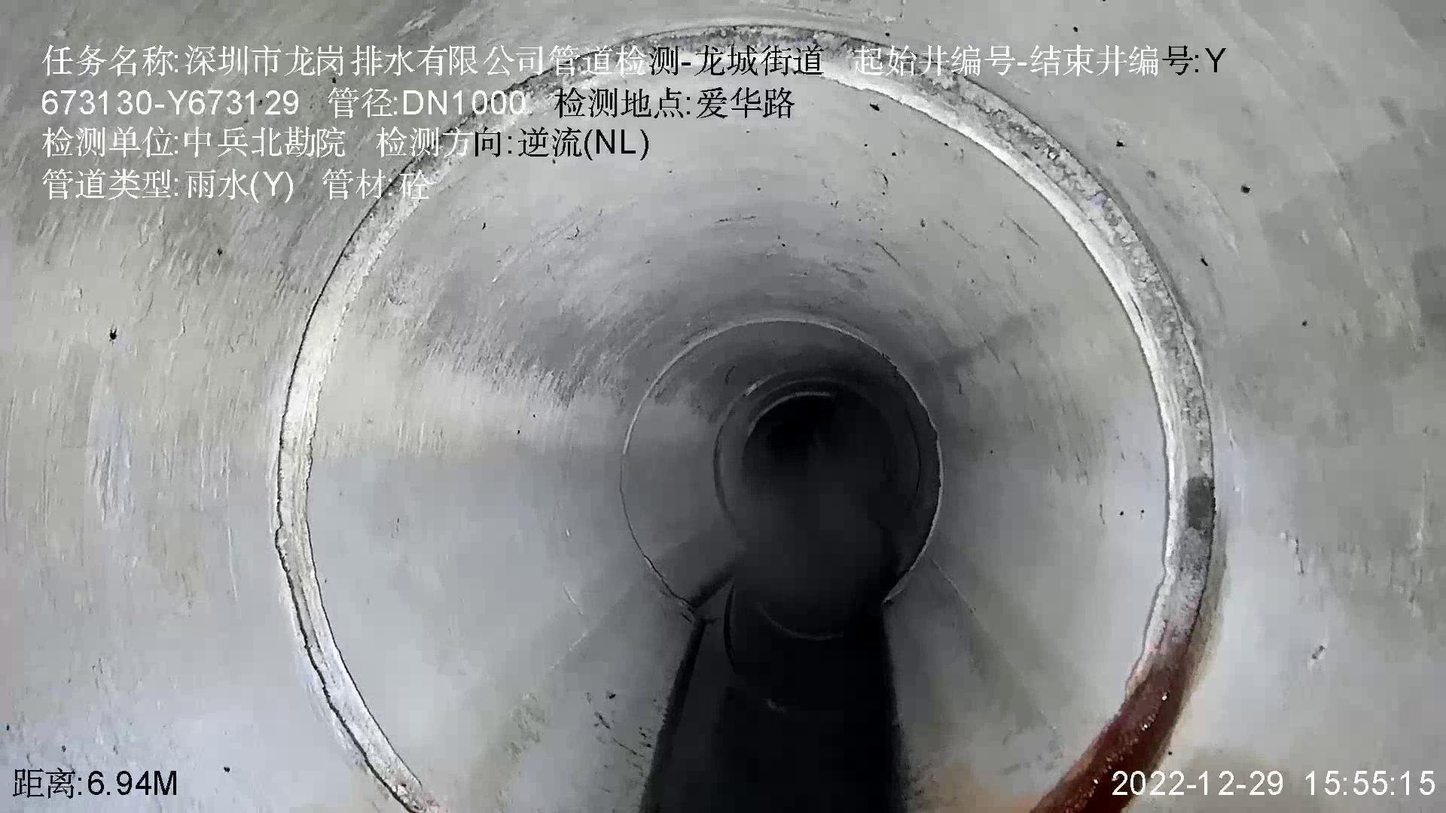CKTJ: (273, 17, 1219, 812)
